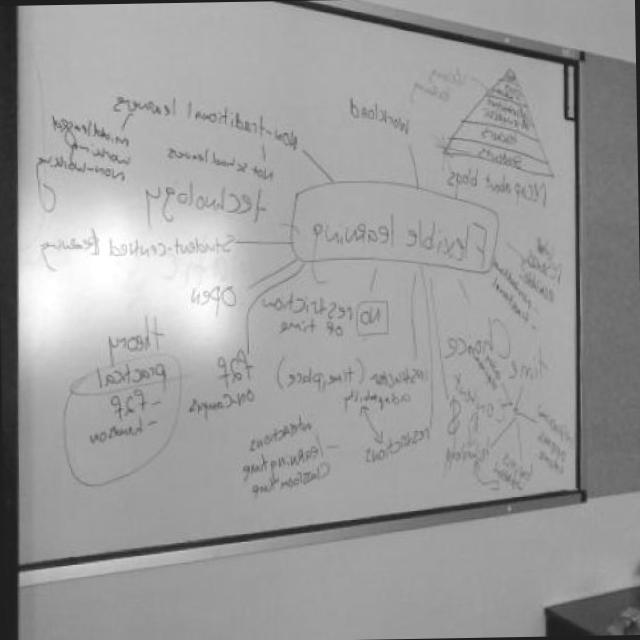Instructor: (19, 5, 579, 572)
